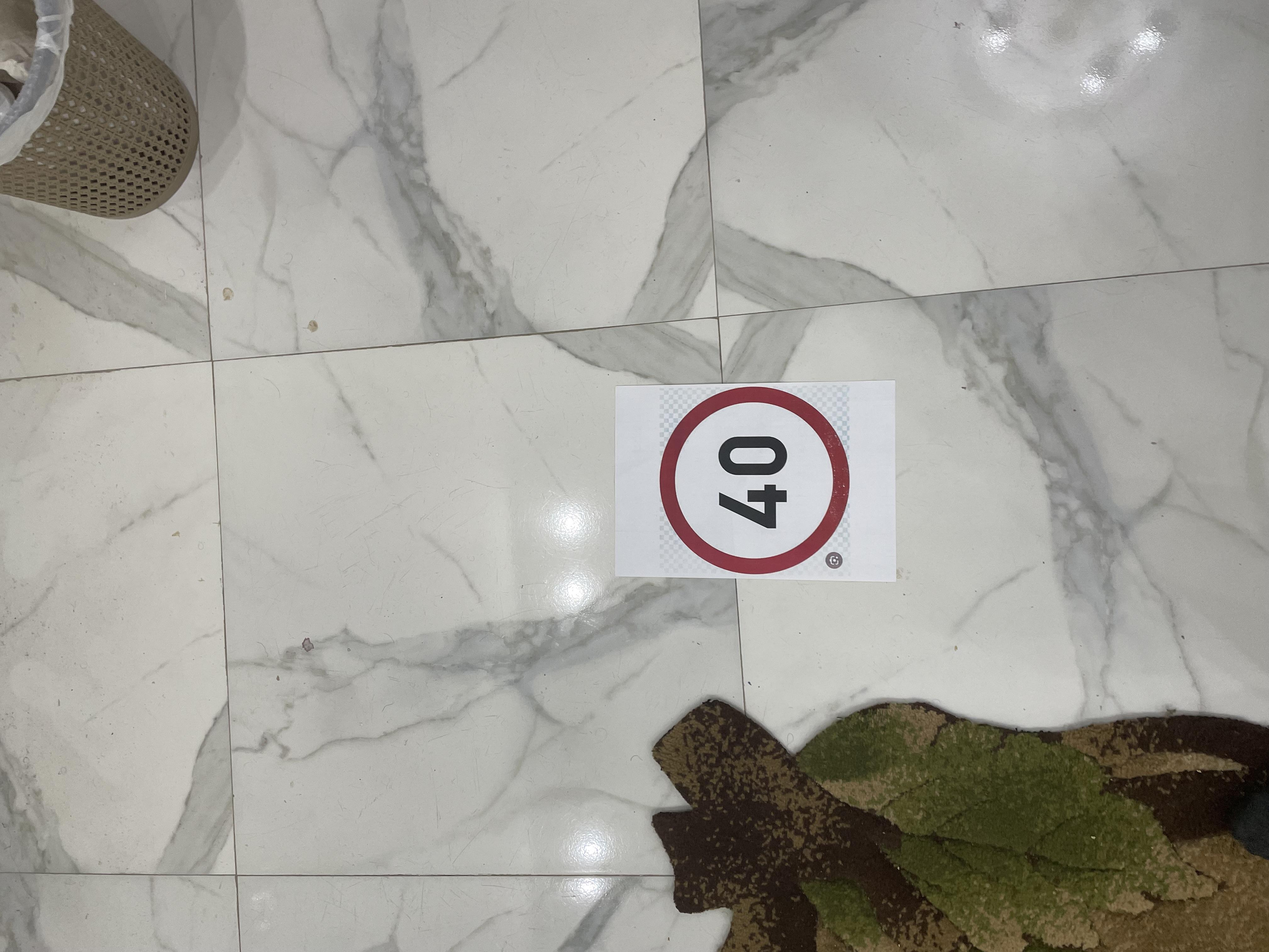40-Speed: (496, 487, 768, 638)
